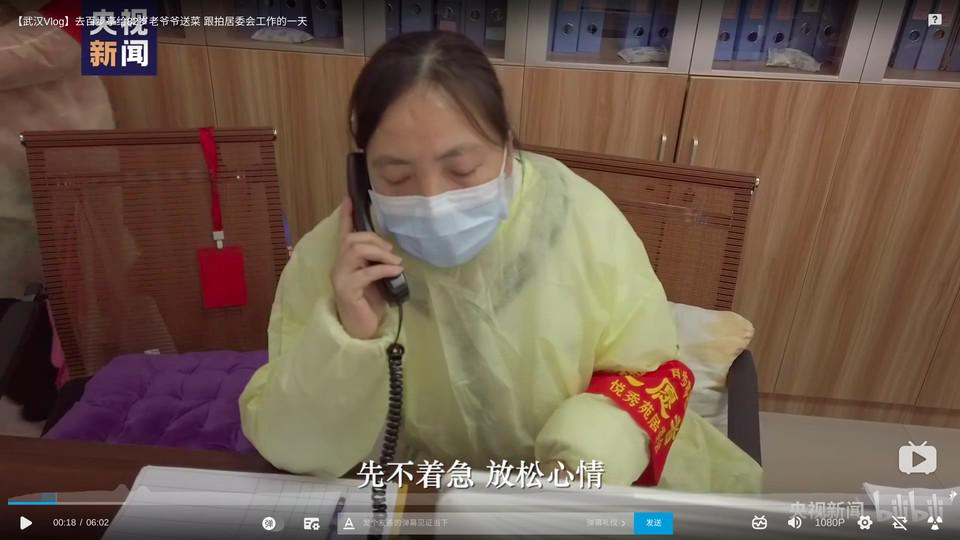OK: (366, 130, 504, 271)
